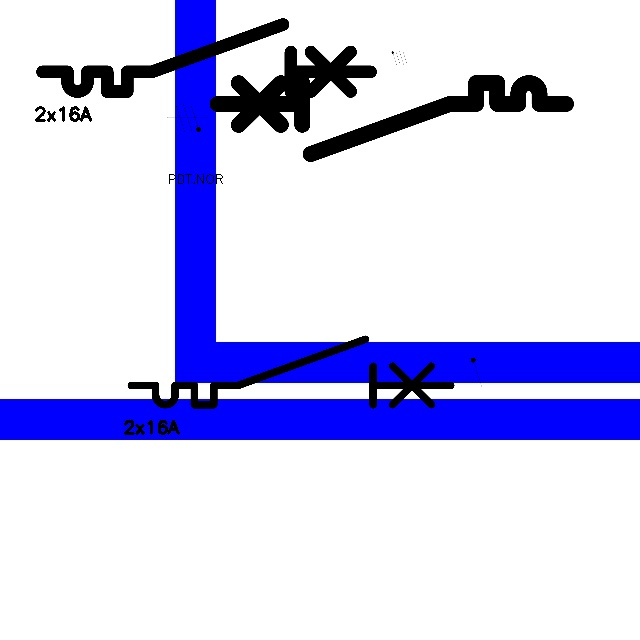interruptor_termomagnetico: (208, 74, 574, 163), (34, 16, 379, 100), (123, 331, 459, 413)
